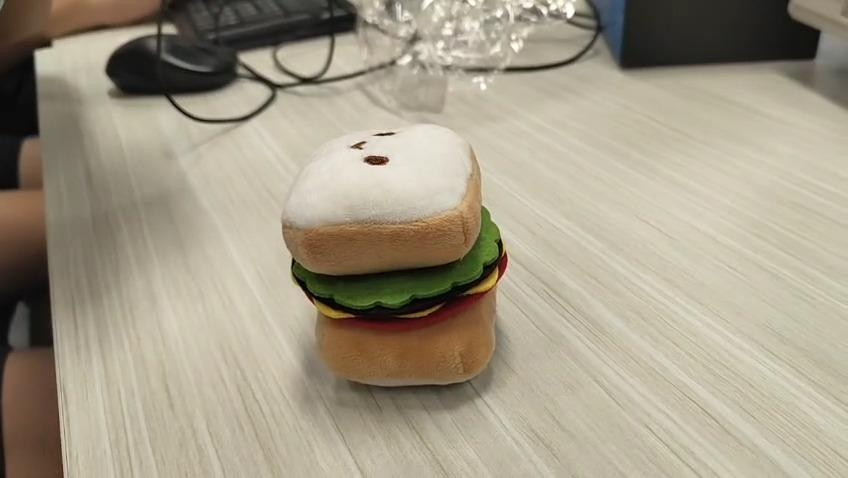objects: (282, 125, 510, 388)
